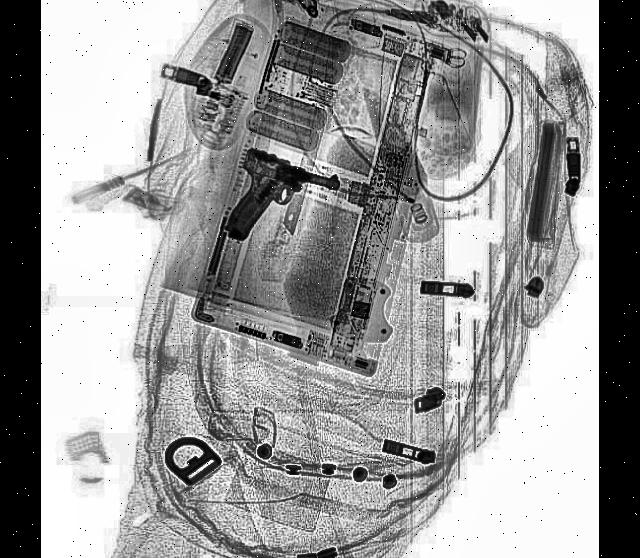Gun: (223, 143, 339, 263)
